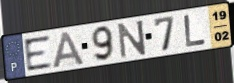7: (153, 14, 178, 53)
9: (89, 24, 116, 63)
A: (51, 31, 86, 70)
E: (22, 33, 54, 73)
L: (183, 13, 208, 49)
N: (116, 18, 148, 60)
